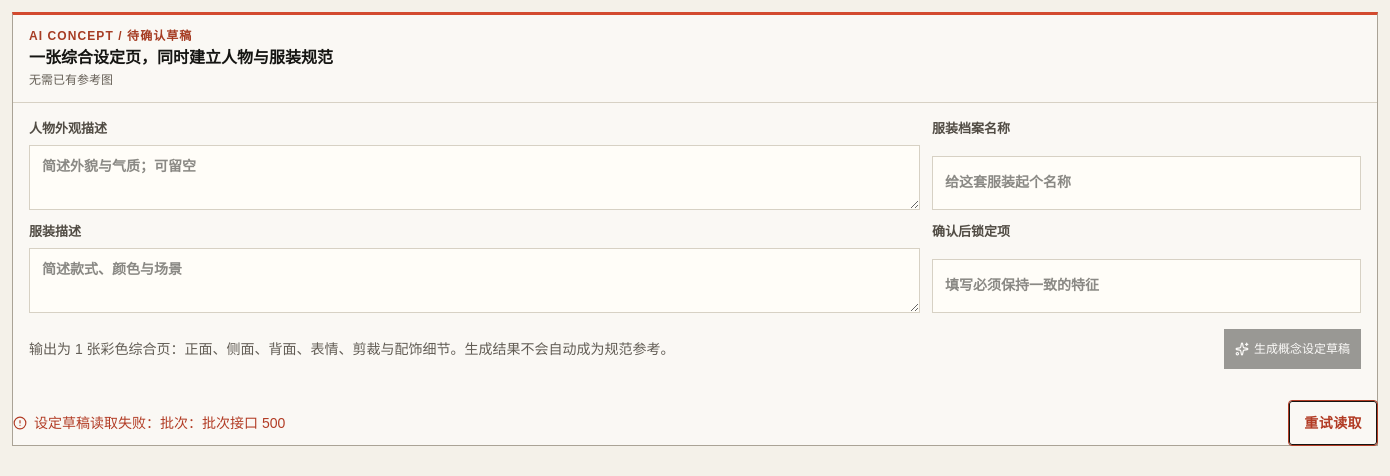
Scenario: CharacterConceptPanel › TEST-CONCEPT-ERR 批次读取失败显示错误与重试，不再伪装成空态（#545-3）
expect the message shows "设定草稿读取失败": met, box [34,415,160,431]
expect the message shows "批次：批次接口 500": met, box [160,415,285,431]
Click the button "重试读取" at (1333,423), box [1289,401,1377,445]
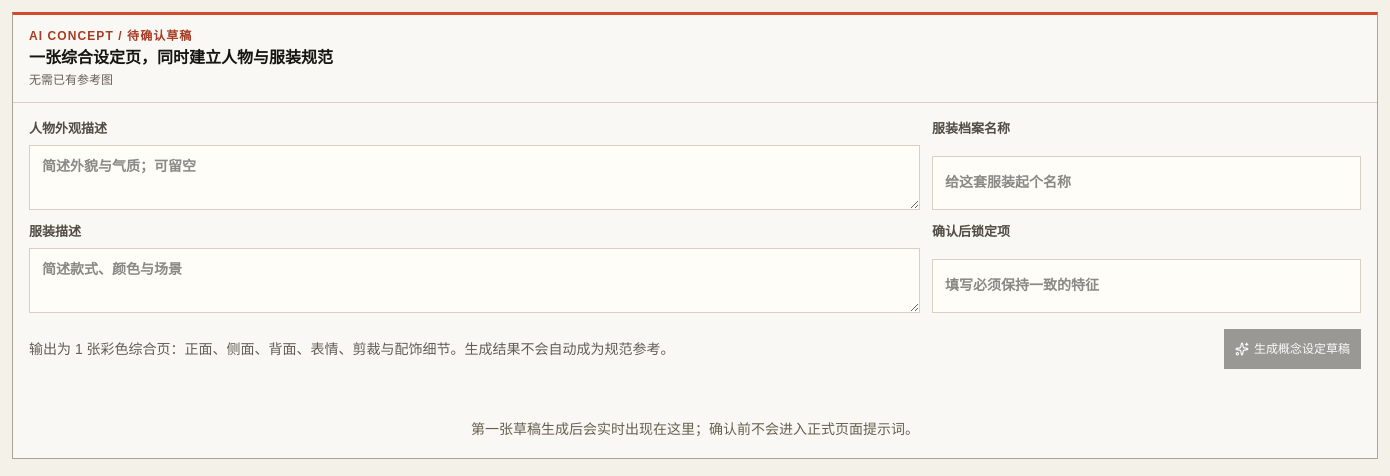
expect the text "第一张草稿生成后会实时出现在这里；确认前不会进入正式页面提示词。" is shown: met, box [471,421,919,437]
